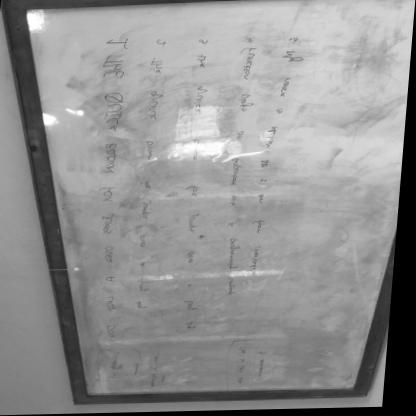Handwritten text: (235, 49, 310, 286), (210, 44, 267, 300), (92, 54, 136, 344), (175, 52, 217, 338), (129, 53, 171, 319)
